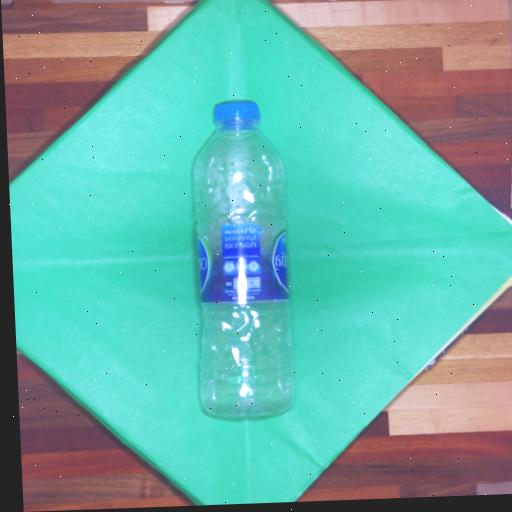bottle: (193, 101, 293, 416)
